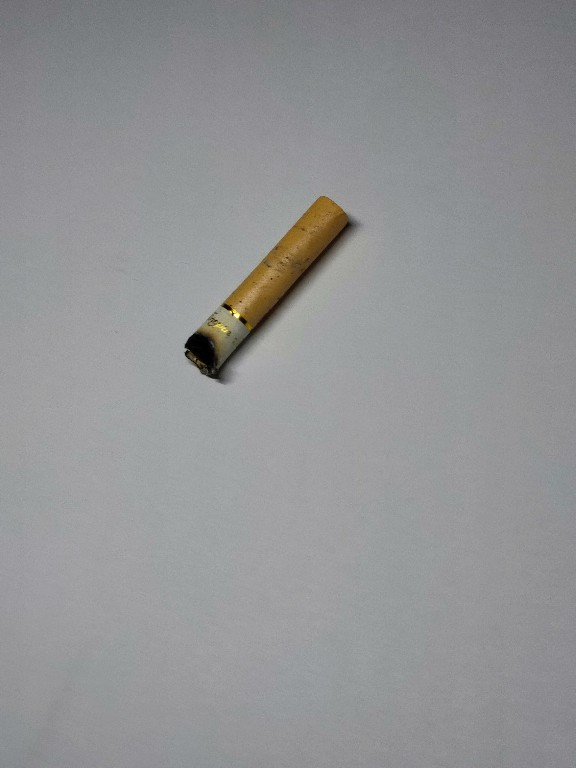cigarette: (180, 188, 355, 384)
